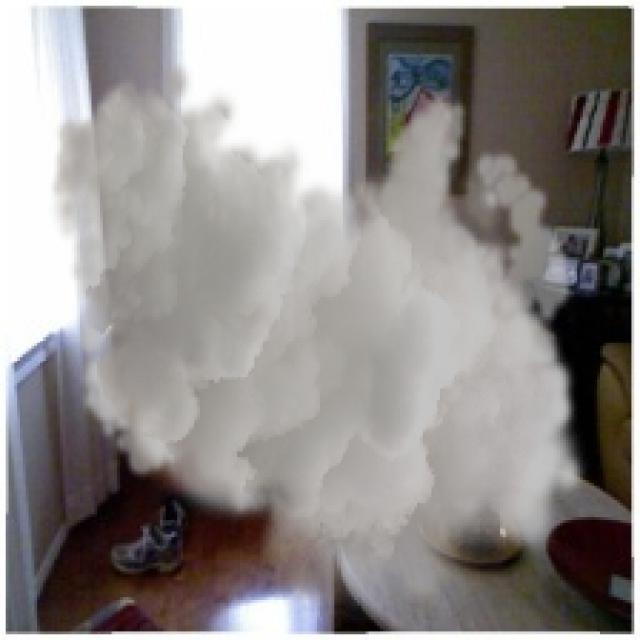Smoke: (49, 57, 588, 626)
